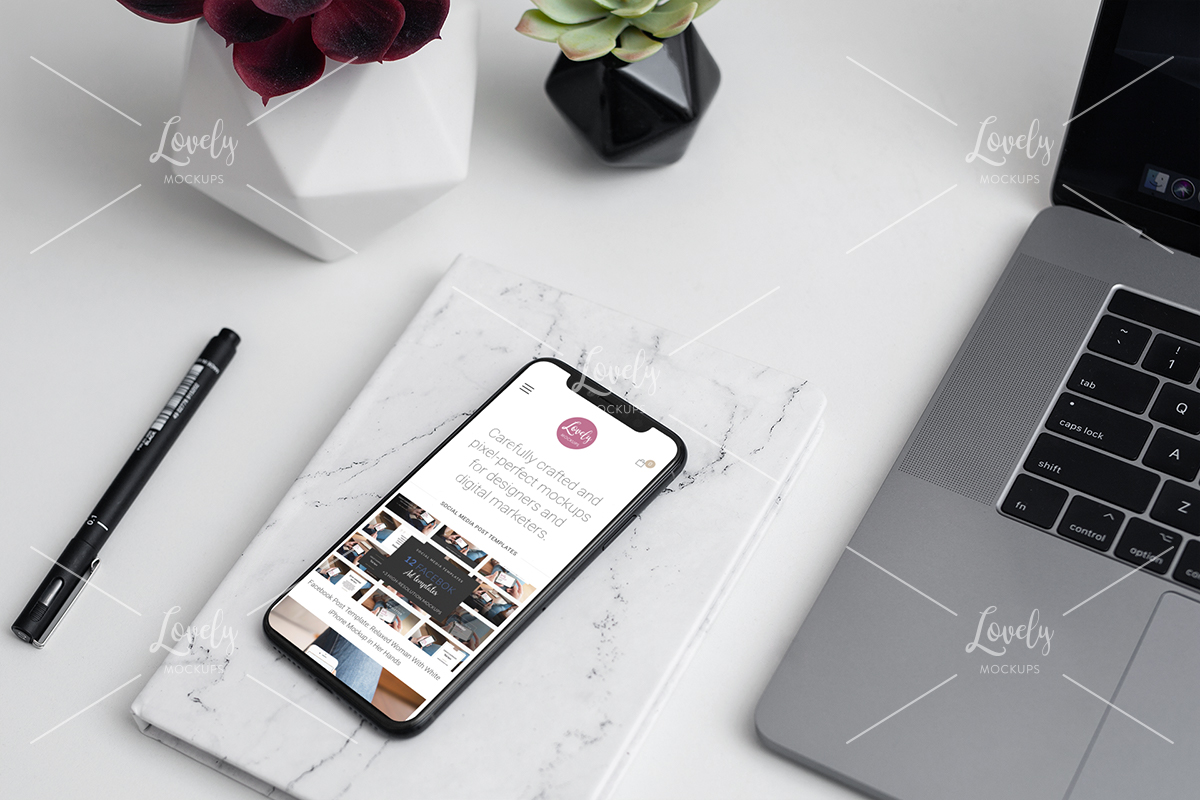Cell Phone: (294, 367, 639, 728)
